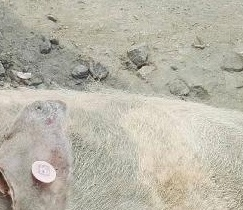text: (19, 150, 72, 196)
